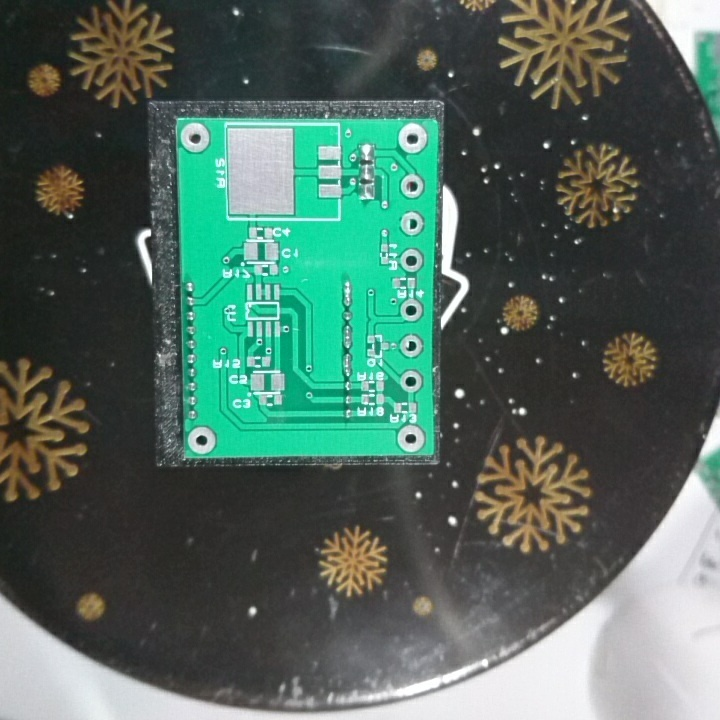F: (397, 122, 431, 157), (185, 423, 218, 457), (179, 120, 211, 155), (395, 422, 426, 453), (397, 172, 427, 201), (397, 333, 425, 360), (399, 247, 426, 274), (398, 368, 425, 395), (398, 210, 426, 236), (397, 297, 425, 323)
P: (339, 350, 357, 381), (340, 278, 355, 309), (339, 323, 354, 350)
